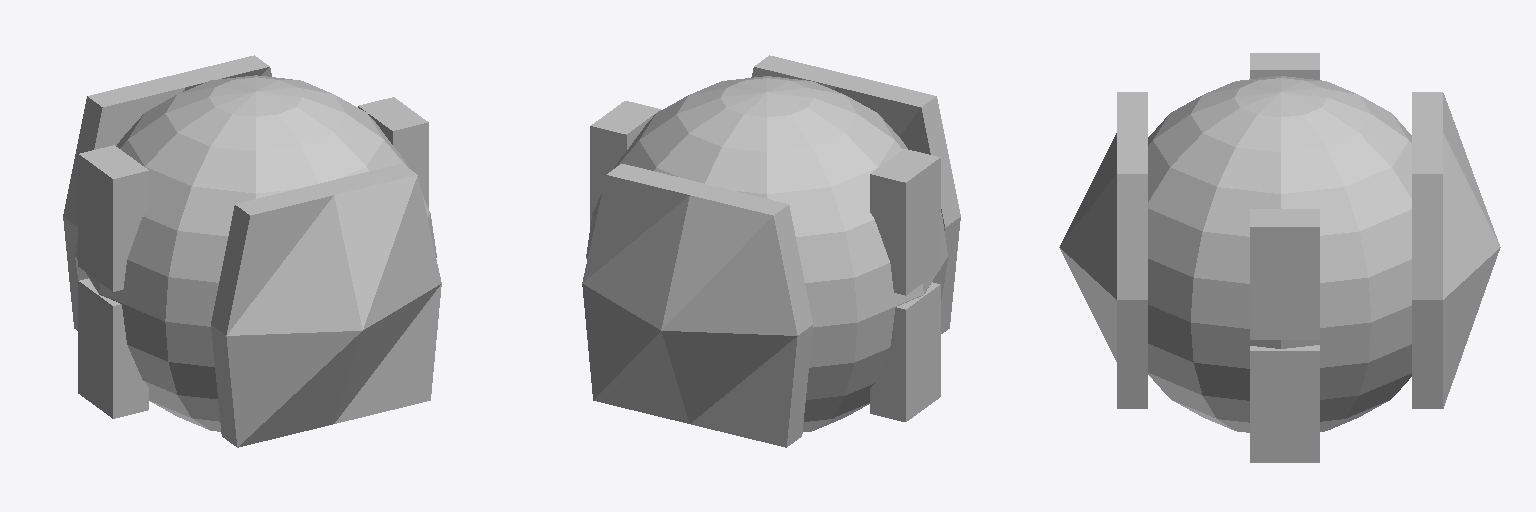
File: segment4paint uvd.obj
3 views of the same model, side by side, from view 1: azimuth 30°, elevation 25°; view 2: azimuth 150°, elevation 25°; view 3: azimuth 270°, elevation 25° (orthographic).
Visible parts, largest first — view 1: segment; view 2: segment; view 3: segment.
Part boxes in pixels (left/top/right/bottom): segment: left=63, top=55, right=441, bottom=447; segment: left=582, top=55, right=960, bottom=447; segment: left=1059, top=53, right=1500, bottom=462.
Size of the model in its own units: 5.65 by 5.61 by 6.84.